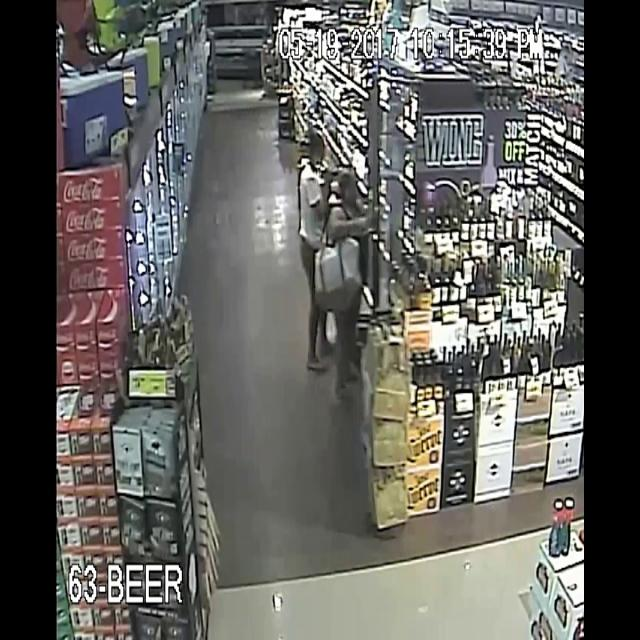normal: (311, 138, 420, 406), (286, 117, 334, 259)
